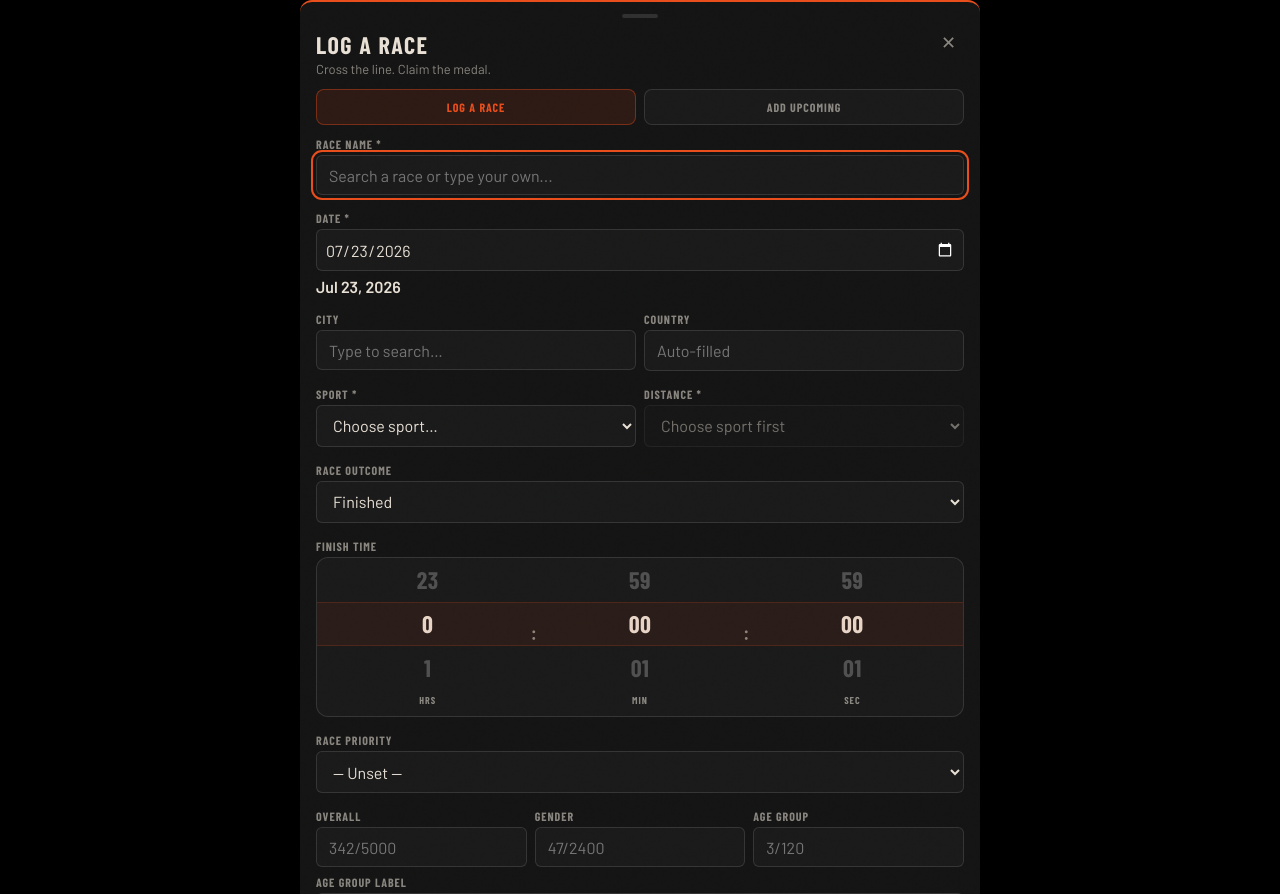
AddRaceModal — C-priority catalog entries › shows C-priority races in suggestions
This screenshot has width=1280, height=894.
(page scrolled)
In the field with placeholder "Search a race or type your own...": (640, 175) left=316, top=155, right=964, bottom=195, type "local 5k"
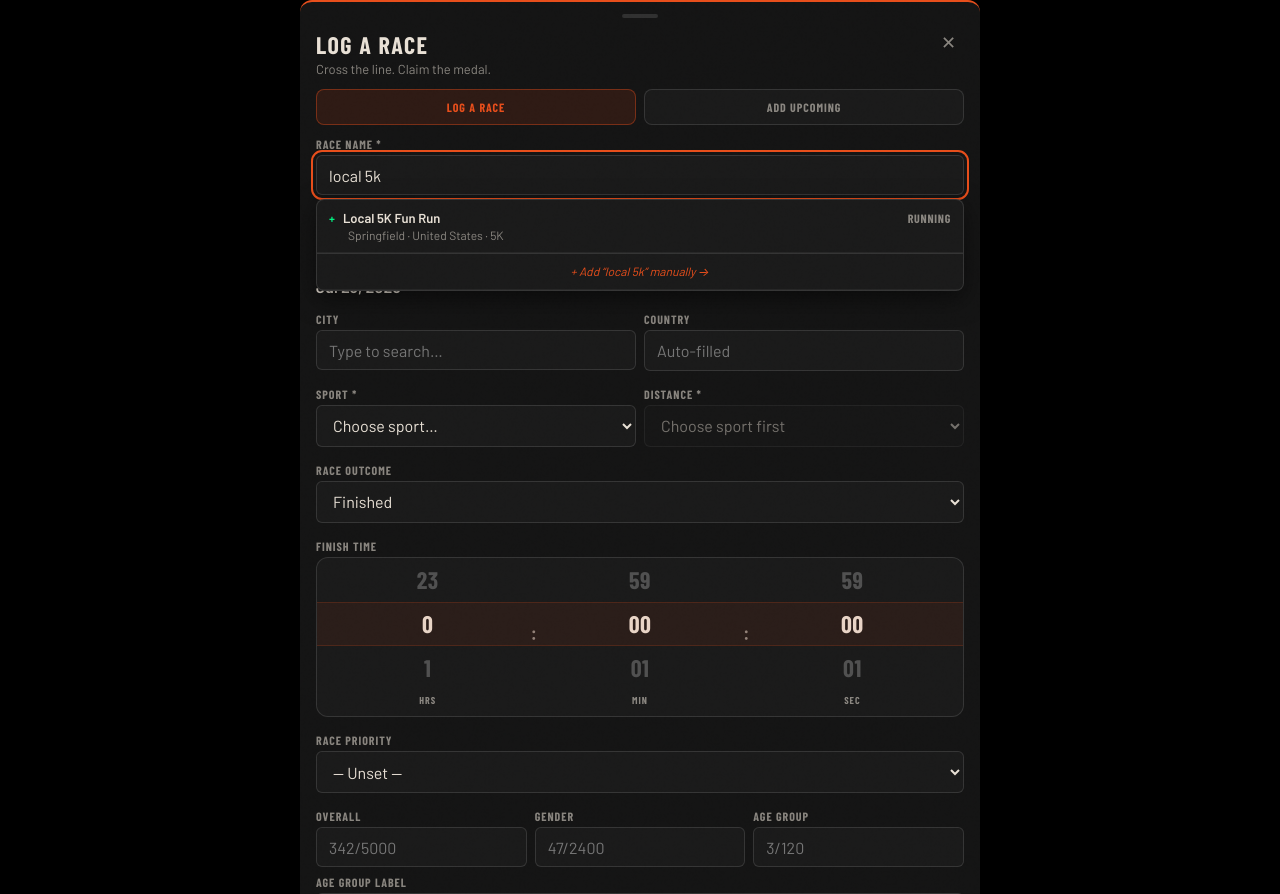
Check: the text "Local 5K Fun Run" is shown, box left=343, top=210, right=440, bottom=226
